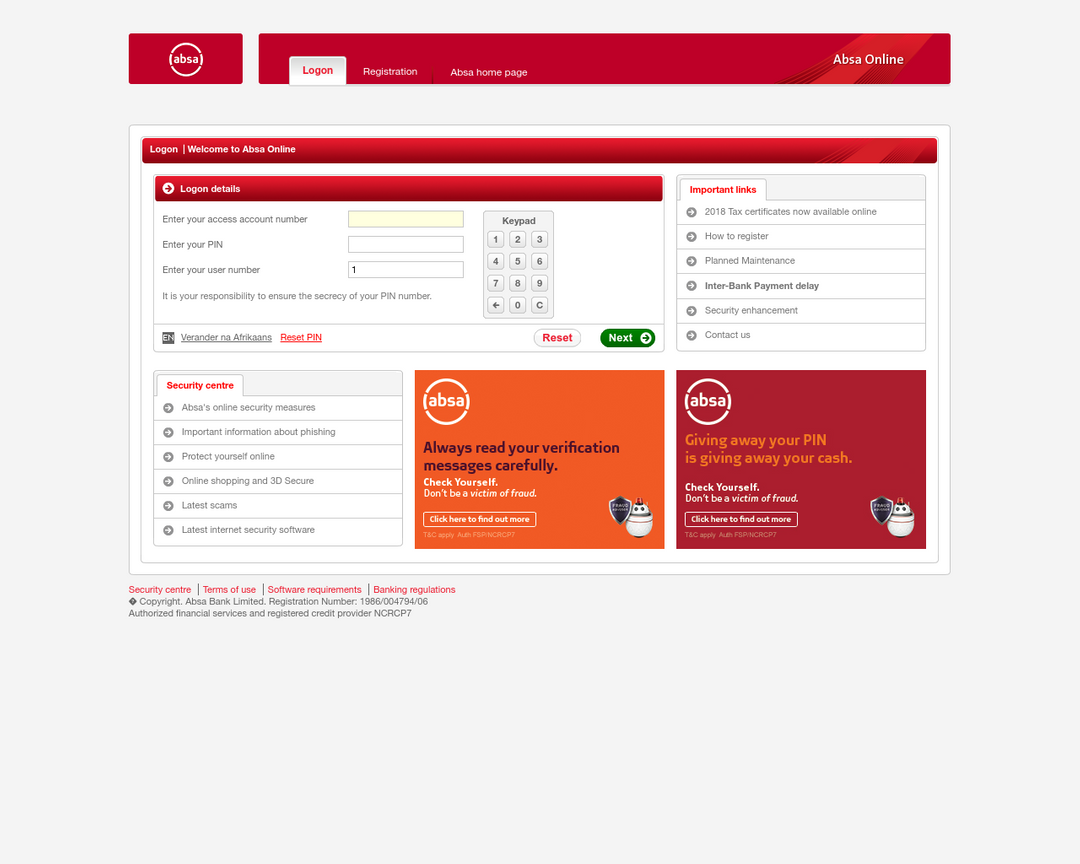ABSA: (420, 374, 474, 431), (678, 375, 734, 427), (165, 41, 205, 80)
